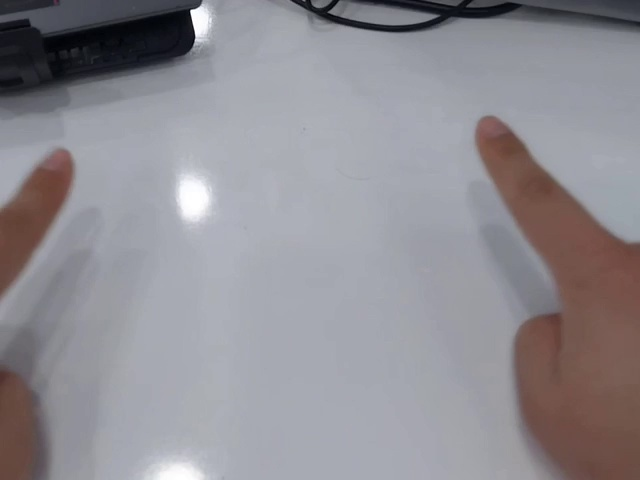fingers: (473, 114, 529, 171), (26, 146, 75, 204)
